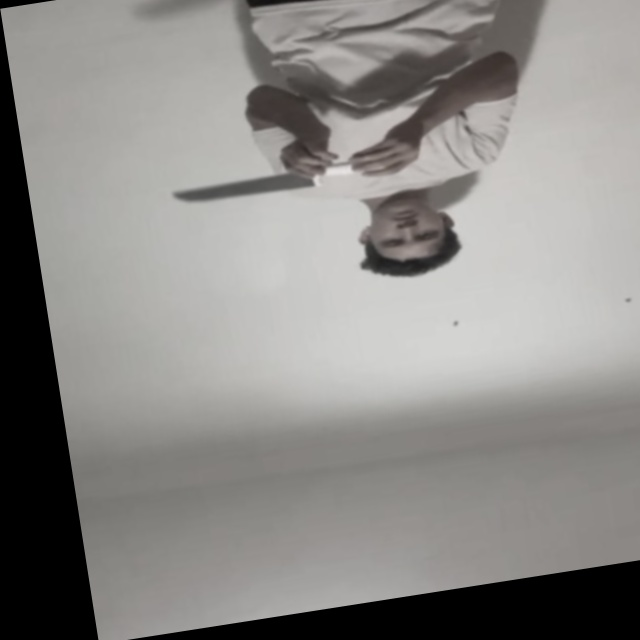Sharp-Object: (169, 167, 318, 209)
